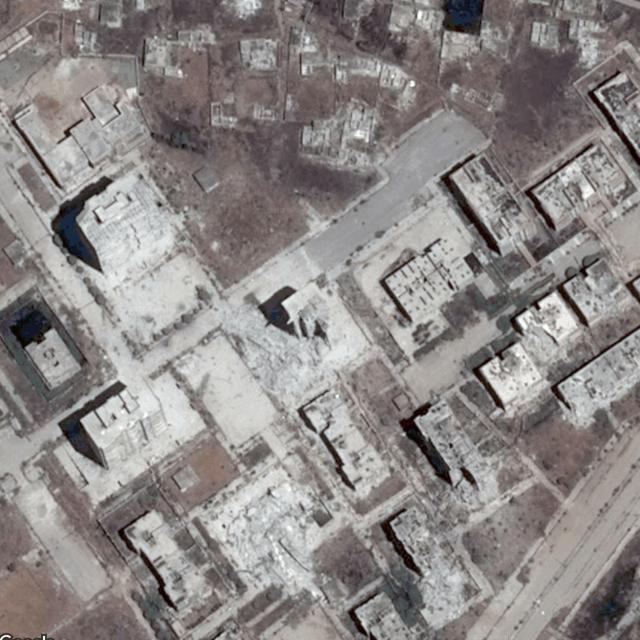damaged_building: (218, 282, 367, 412), (200, 465, 322, 593), (410, 398, 500, 528), (386, 505, 476, 624), (553, 330, 640, 430), (512, 288, 580, 362)
